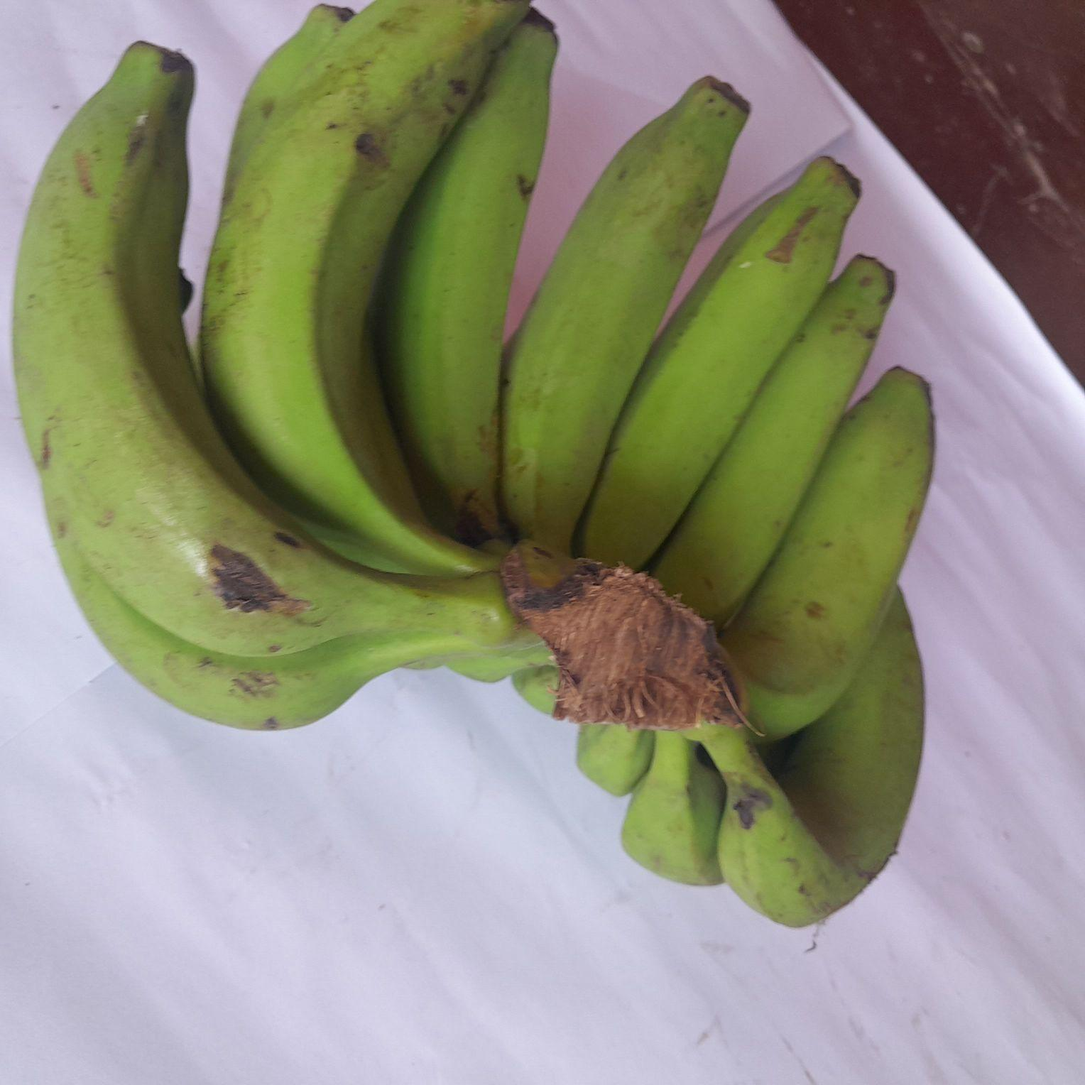Banana Unripe: (13, 42, 551, 728), (201, 0, 528, 576), (500, 76, 748, 553), (579, 159, 860, 568), (375, 15, 557, 547), (653, 256, 894, 625), (721, 369, 935, 737), (773, 593, 924, 876), (621, 731, 725, 885)
